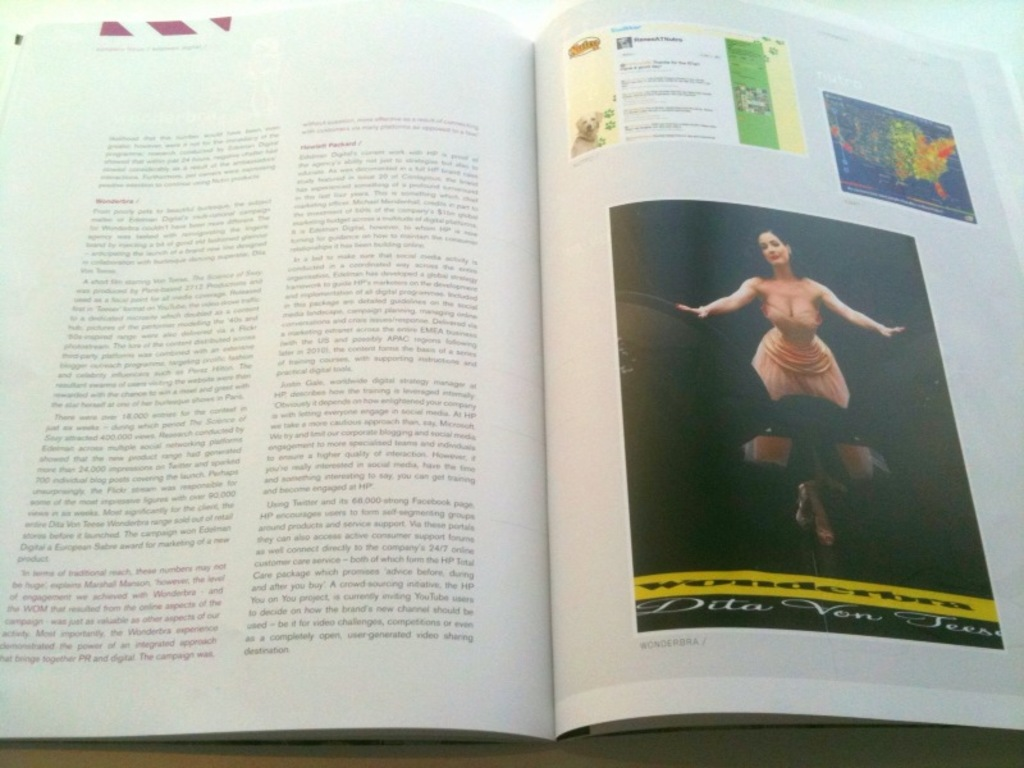person: (675, 227, 908, 552)
